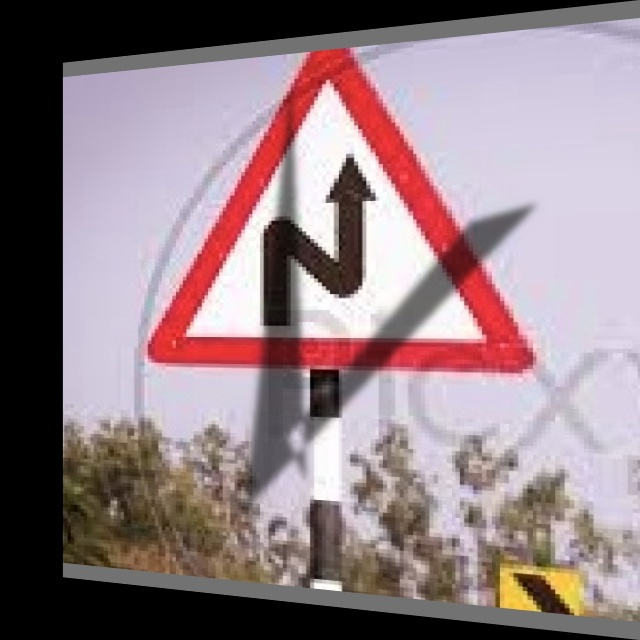Right_Reverse_Bend: (161, 53, 527, 373)
